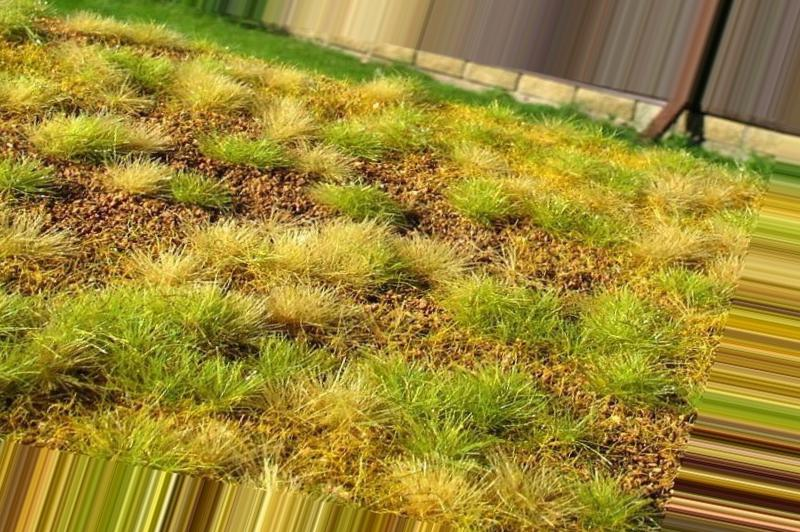patch: (139, 54, 218, 140), (518, 221, 607, 290), (79, 187, 159, 246), (386, 287, 444, 355), (592, 401, 653, 454), (389, 167, 461, 202)
